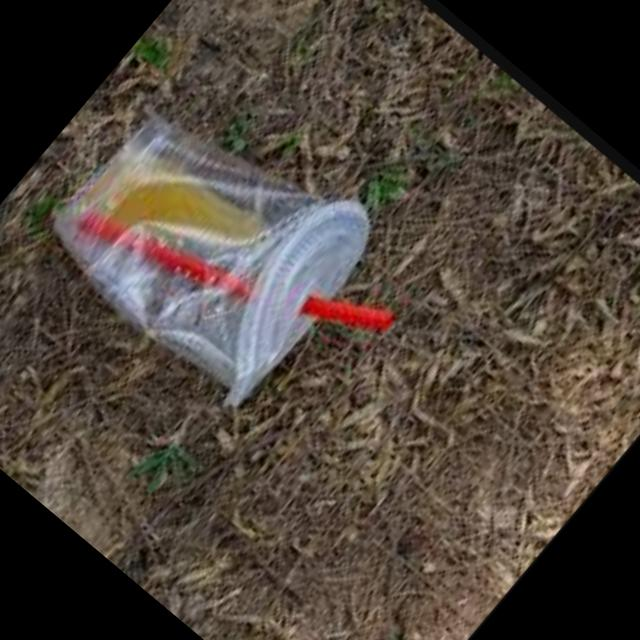GelasPlastik: (17, 46, 450, 469)
